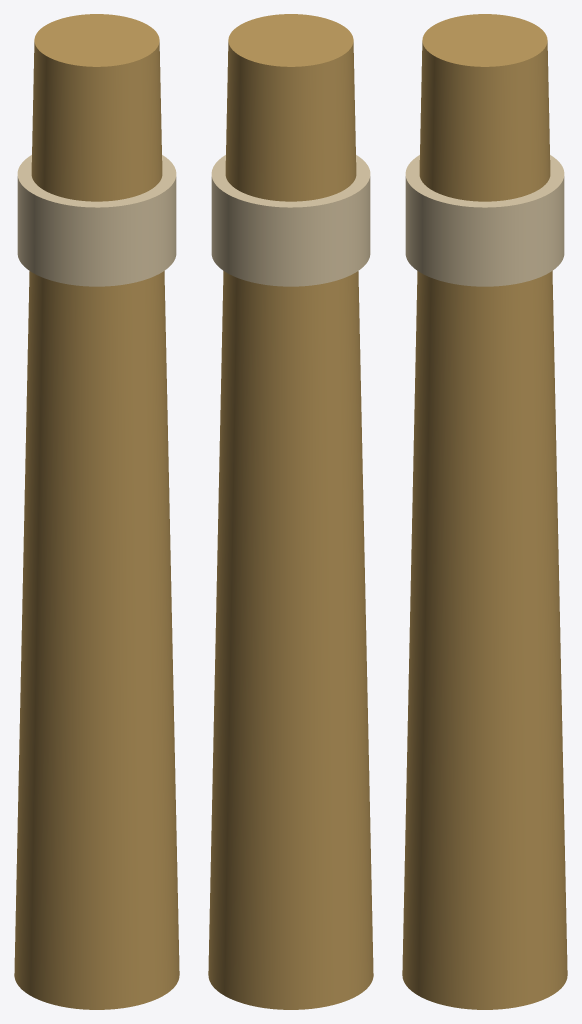
File: yellow_pump_bollard.glb
3 renders of one model, left to right at view 1: azimuth 30°, elevation 25°; view 2: azimuth 150°, elevation 25°; view 3: azimuth 270°, elevation 25°, orthographic.
Parts seen in each view (by area): view 1: Embedded steel post, Reflective warning band; view 2: Embedded steel post, Reflective warning band; view 3: Embedded steel post, Reflective warning band.
Part boxes in pixels (<box>): Embedded steel post: <box>14,14,179,1009</box>; Reflective warning band: <box>17,155,176,286</box>; Embedded steel post: <box>208,14,373,1009</box>; Reflective warning band: <box>211,155,370,286</box>; Embedded steel post: <box>402,14,567,1009</box>; Reflective warning band: <box>405,155,564,286</box>.
Size of the model in its own units: 0.157 by 0.98 by 0.157.
